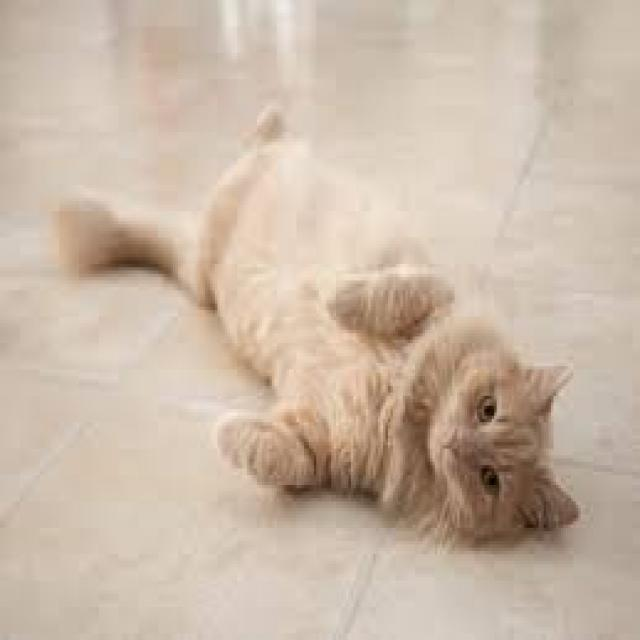cat: (54, 98, 584, 554)
